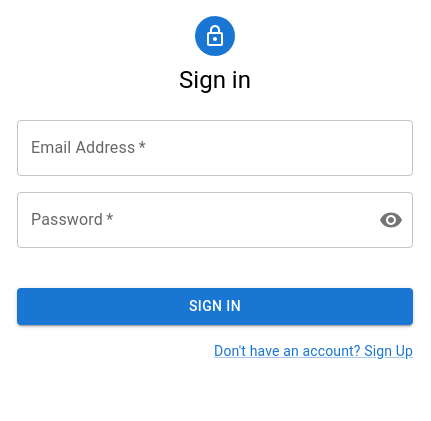
Test: <SignIn /> › Form validation › Submitting empty form › All fields are validated & error messages are rendered
This screenshot has width=431, height=421.
Click the button "Sign In". click: (215, 306)
box: [17,288,413,324]
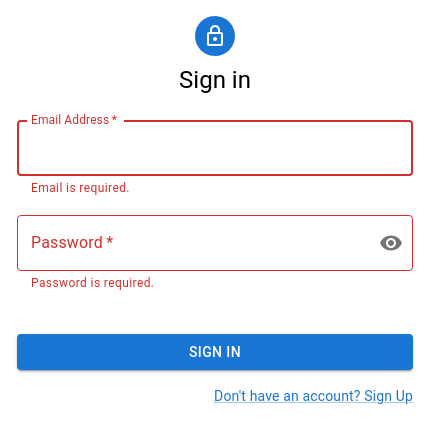
Check: the text "Email is required." is shown, box [31,181,130,195]
Check: the text "Password is required." is shown, box [31,276,154,290]
